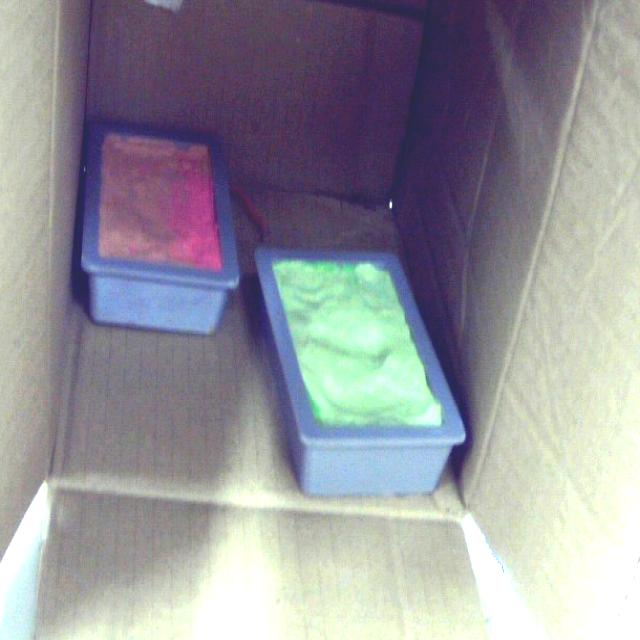block: (248, 244, 470, 499), (78, 122, 242, 333)
